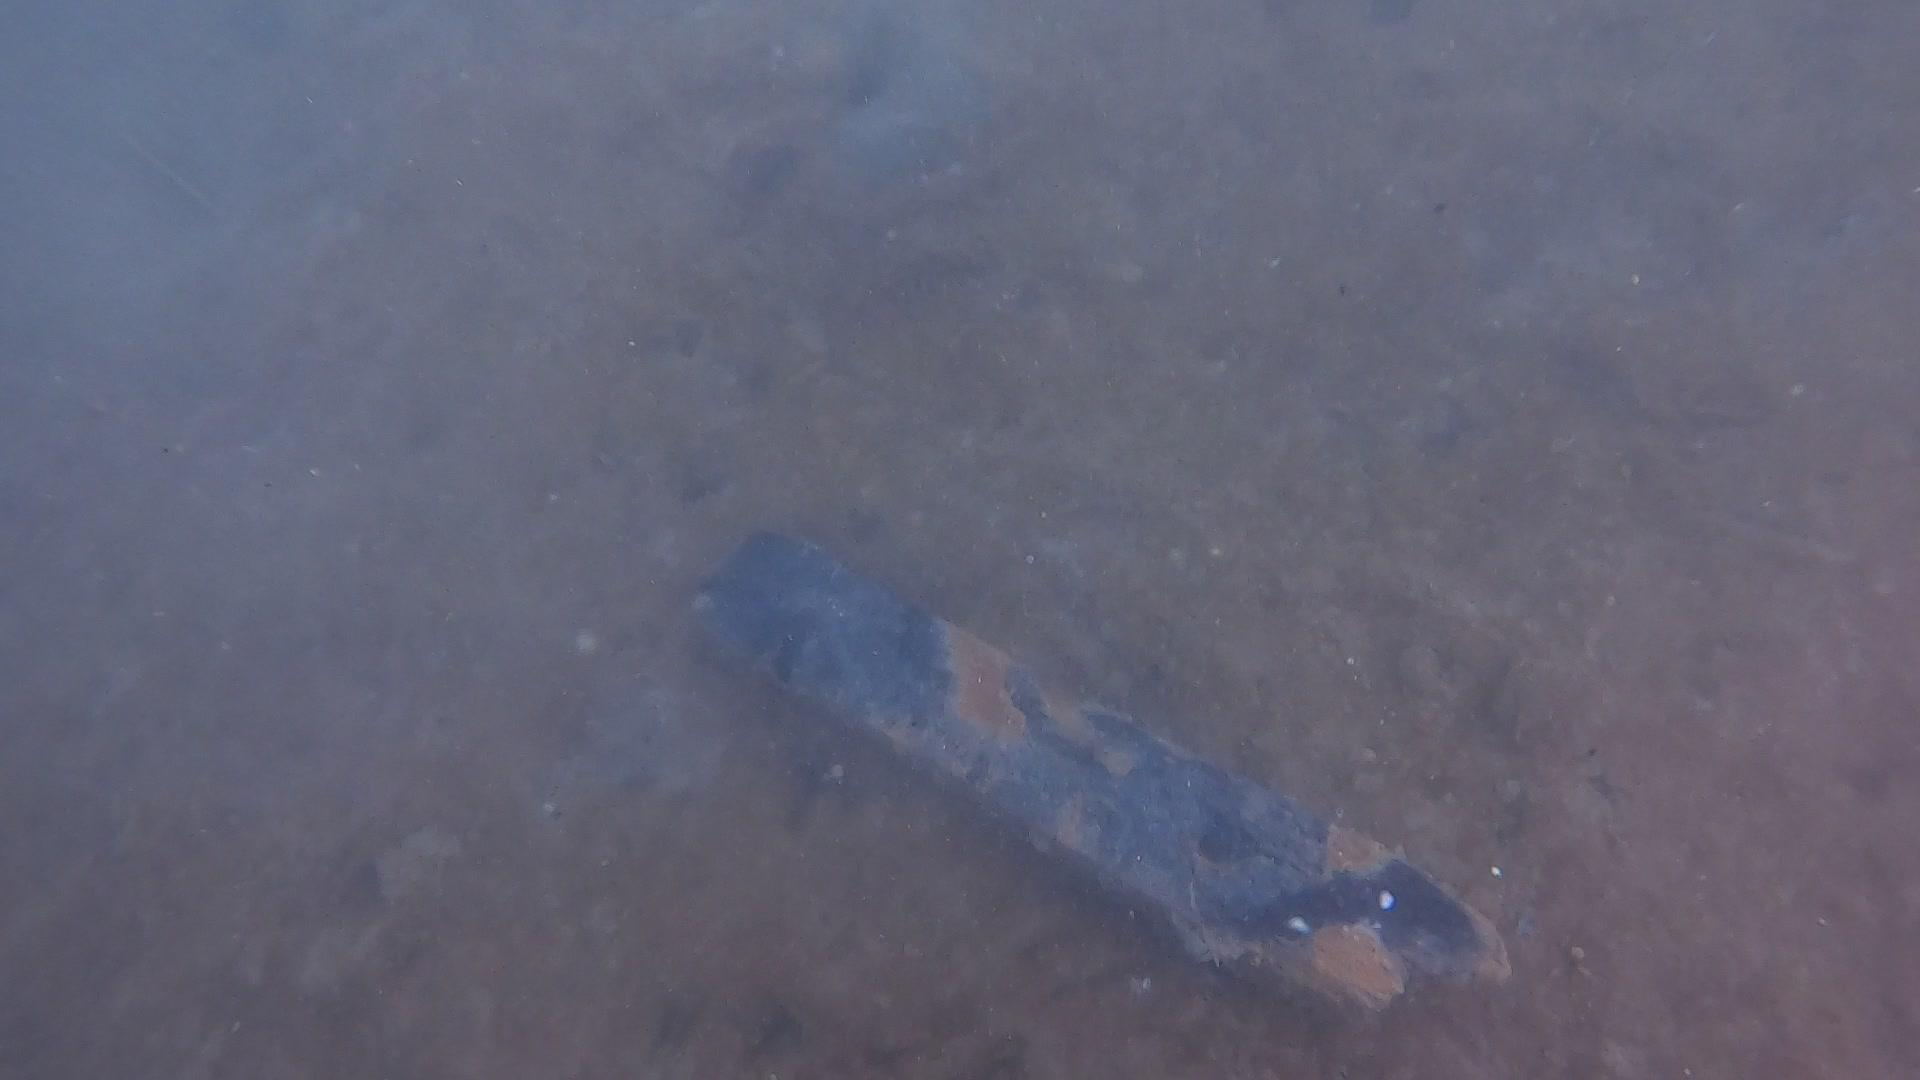wood: (674, 514, 1523, 1030)
